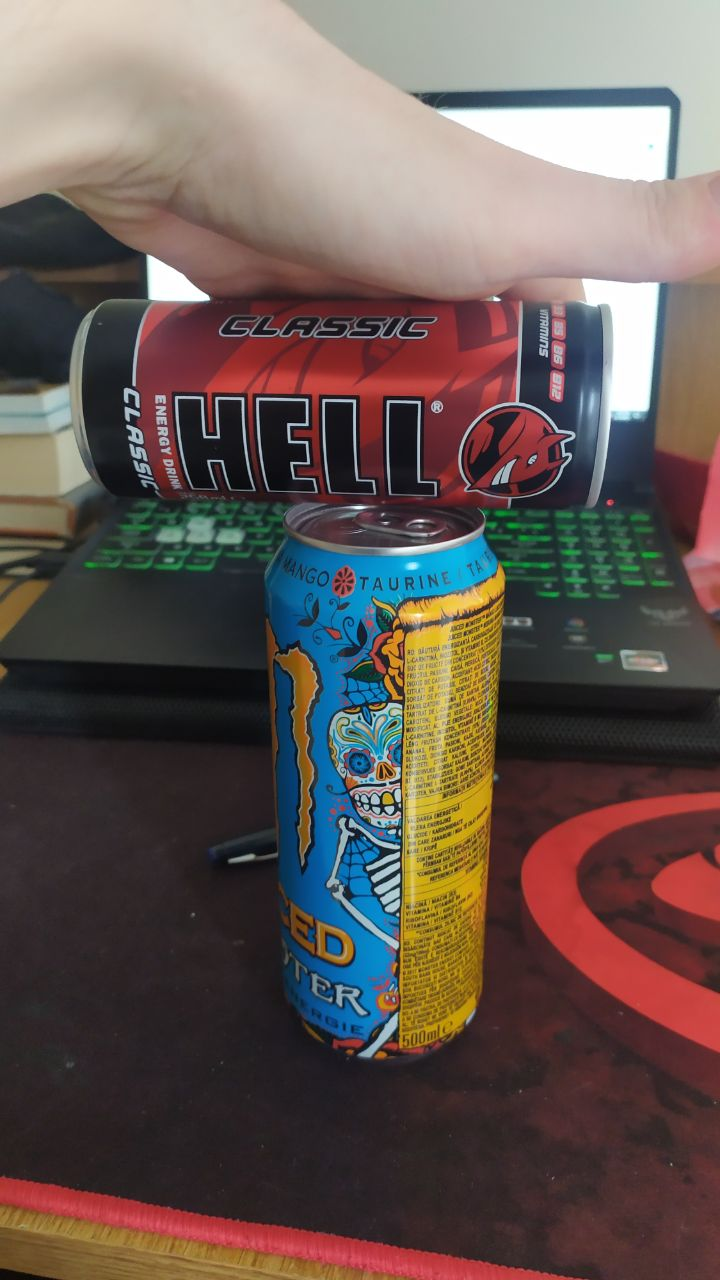Can: (69, 292, 611, 519), (265, 501, 488, 1052)
